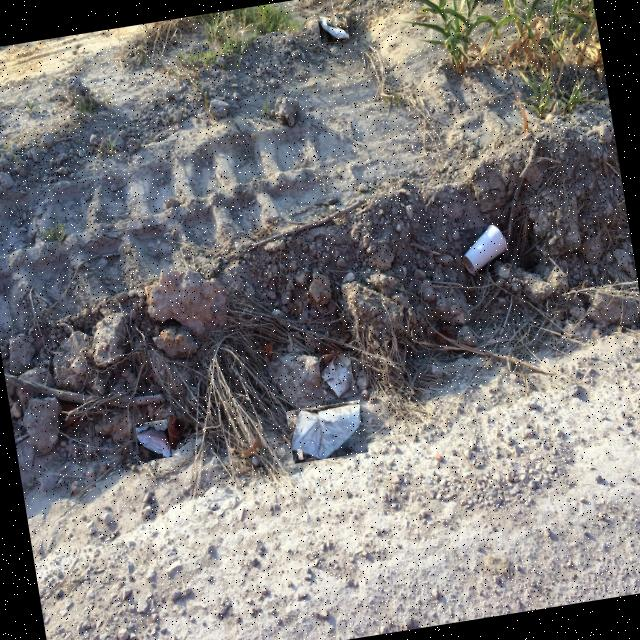Cigarette: (299, 449, 303, 459)
Other carton: (322, 352, 352, 398)
Other plastic: (293, 404, 361, 460)
Other plastic container: (319, 16, 348, 39)
Paper cup: (464, 226, 506, 275)
Unlabeled litter: (136, 424, 172, 457), (203, 45, 209, 51)
